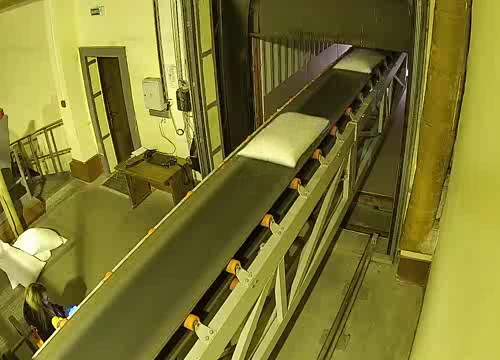bag: (226, 102, 346, 172), (328, 44, 395, 78)
